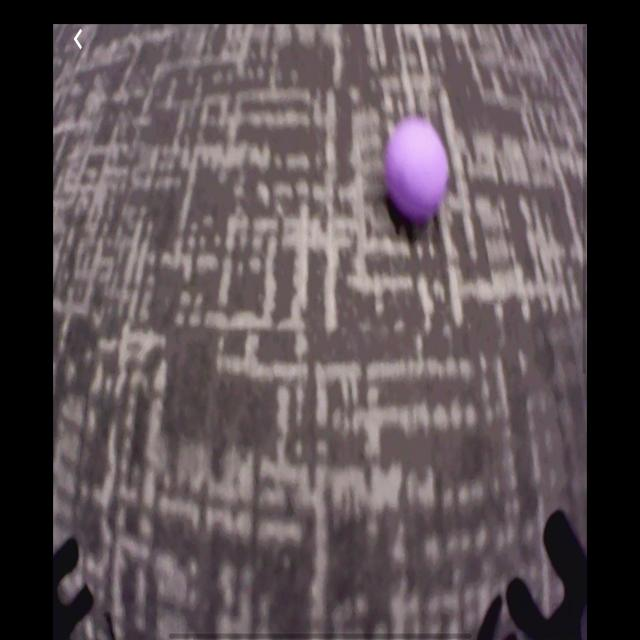ball: (385, 119, 449, 221)
